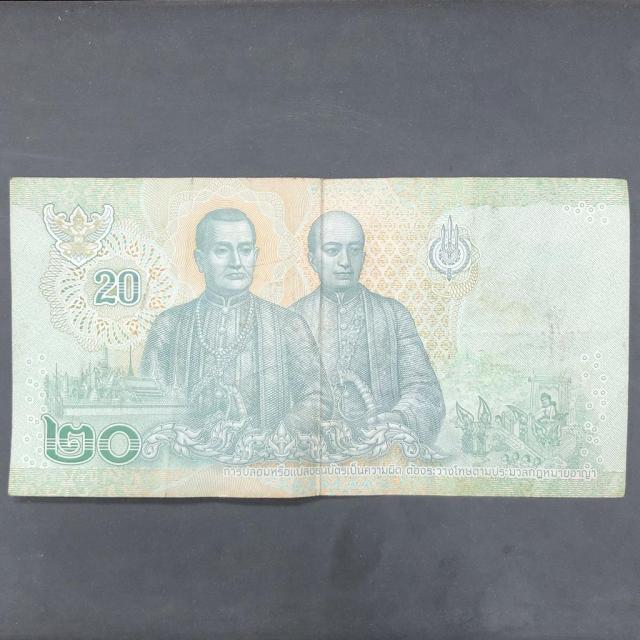THAI20: (6, 178, 630, 502)
